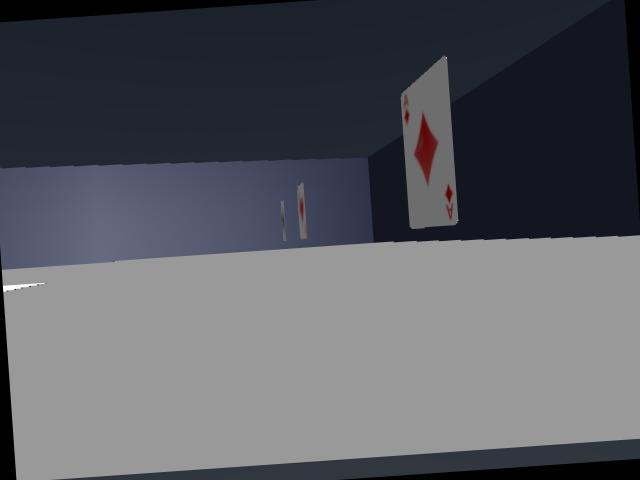diamond: (401, 57, 457, 228)
